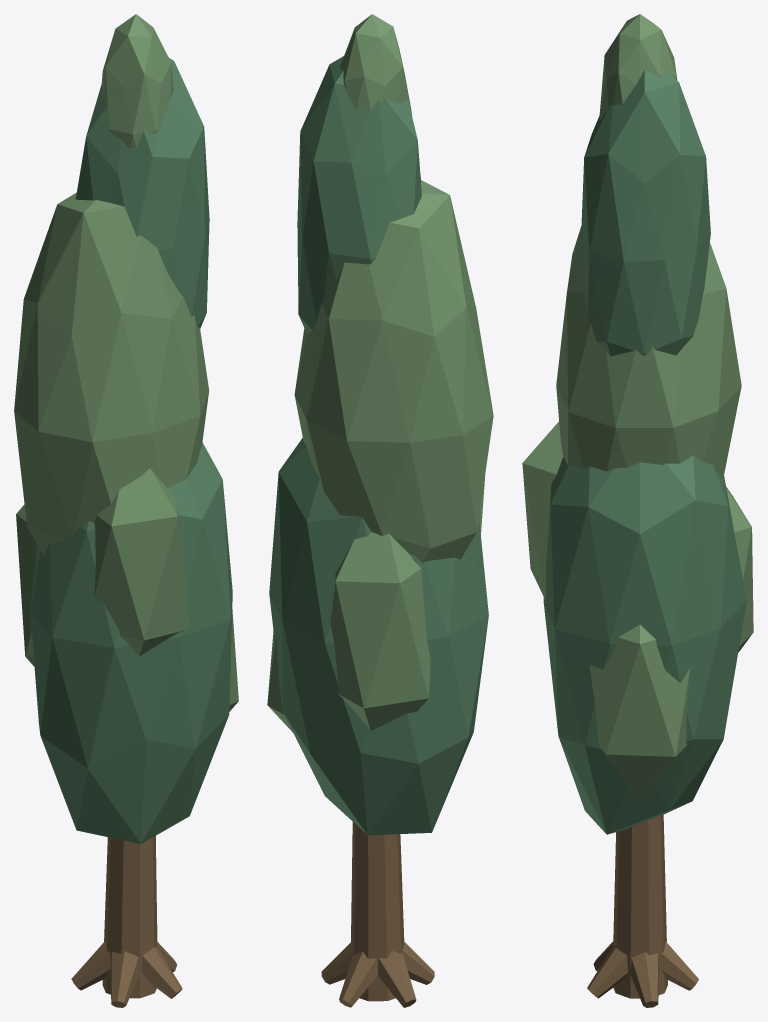
The model's file is tree_cypress.glb.
The picture shows the model from 3 angles, left to right: view 1: azimuth 30°, elevation 25°; view 2: azimuth 150°, elevation 25°; view 3: azimuth 270°, elevation 25°; orthographic projection.
Parts seen in each view (by area): view 1: tree_cypress; view 2: tree_cypress; view 3: tree_cypress.
Boxes of the visible parts, <box> form: tree_cypress: <box>14,14,238,1007</box>; tree_cypress: <box>267,14,493,1007</box>; tree_cypress: <box>522,14,753,1007</box>.
Bounding box in the file's own units: 1.04 × 4.75 × 1.02.
